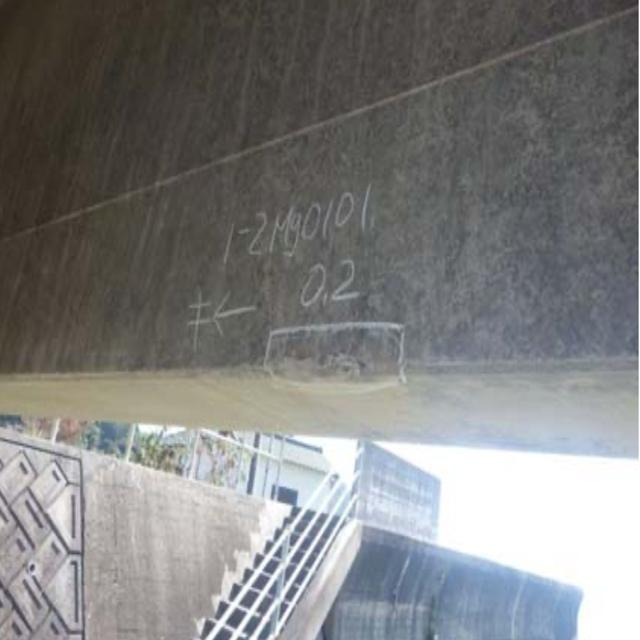spalling: (257, 317, 420, 394)
